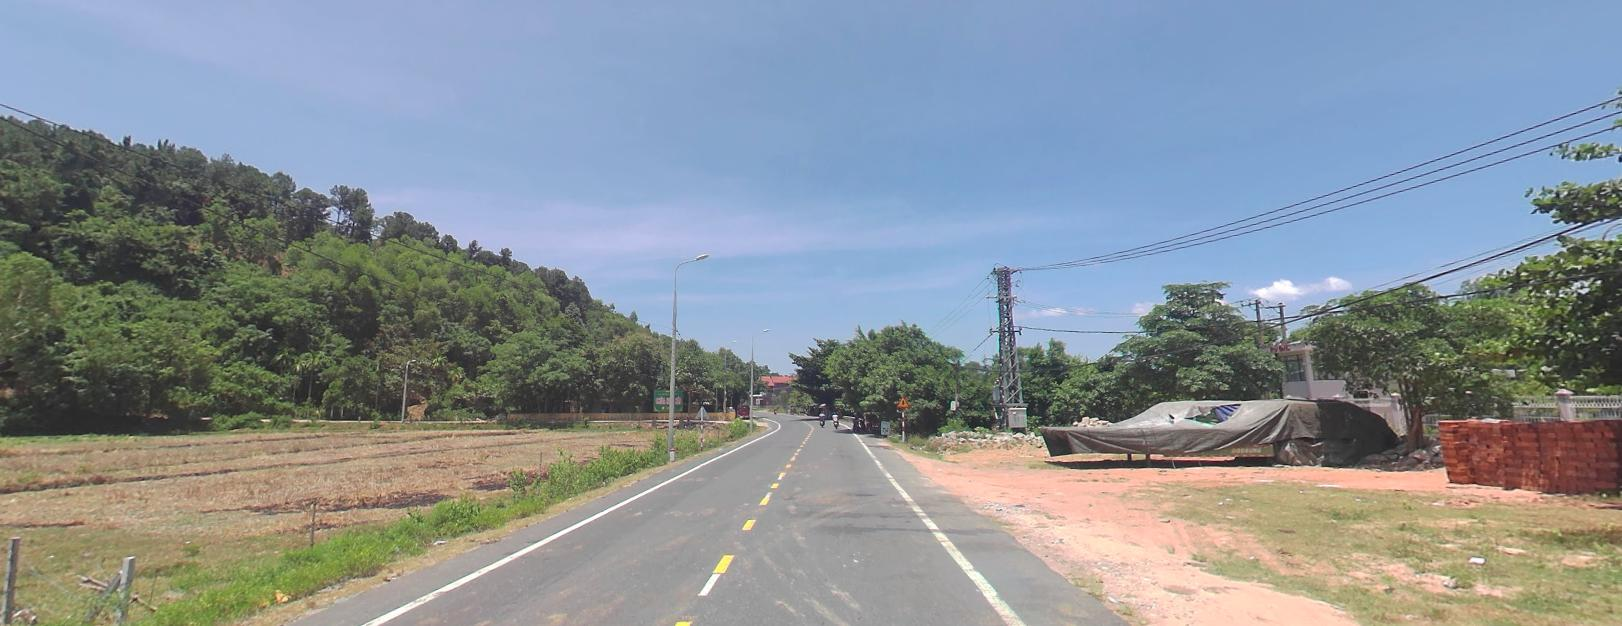Nguy hiem: (896, 395, 909, 406)
